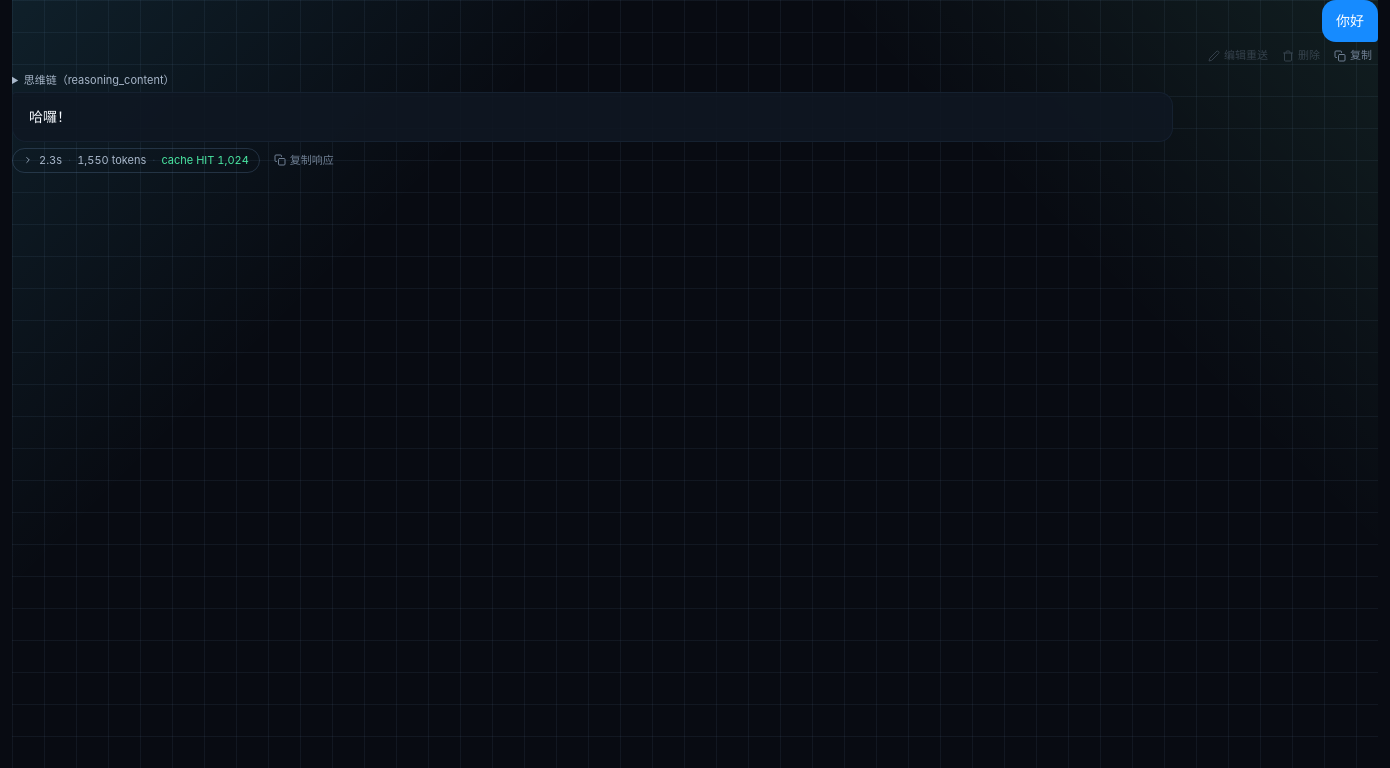
Test case: MessageBubble（assistant debug 收起/展开） › 点摘要列展开完整 debug 面板
Click the button with aria-label "debug": [136, 160] box [12,148,260,173]
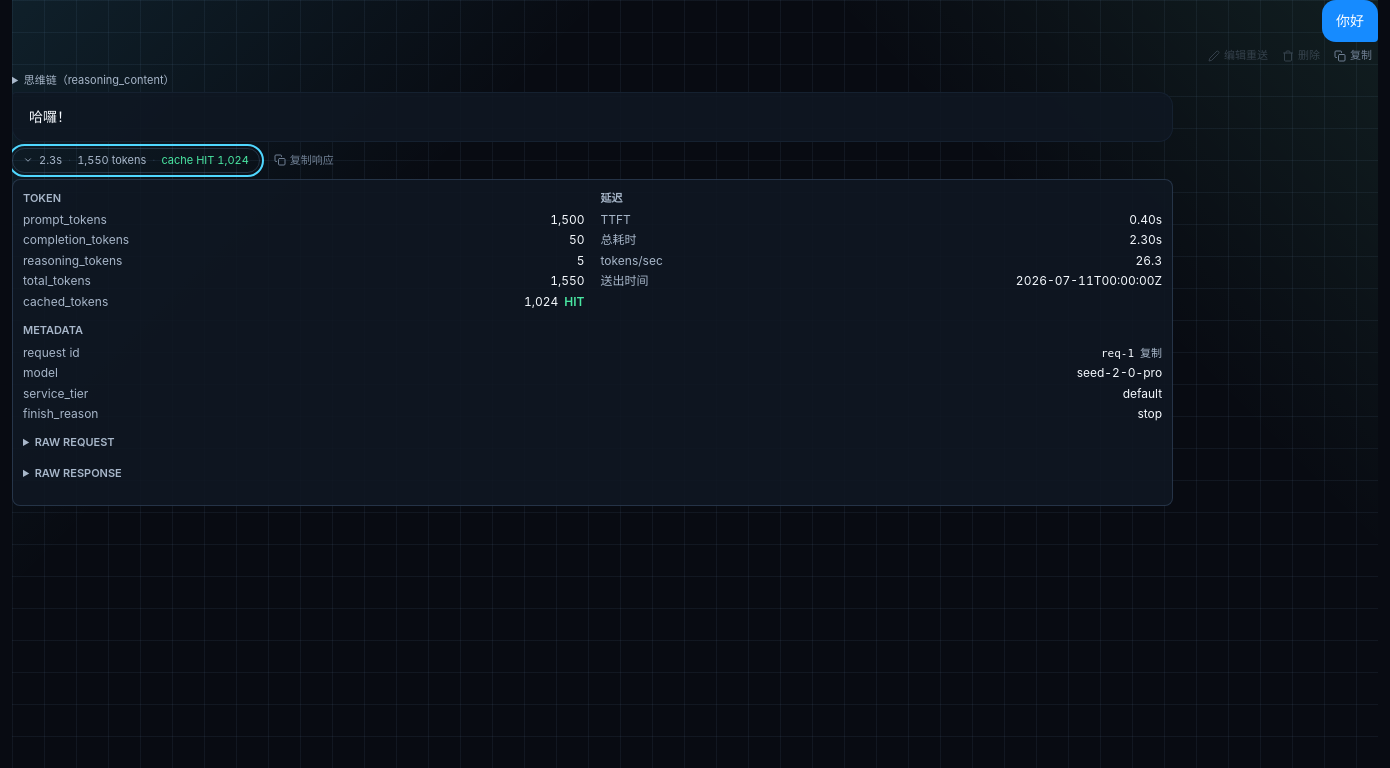
Now the heading "Raw request" is shown, box [35,435,114,449]
Now the heading "Raw response" is shown, box [35,466,122,480]
Now the text "req-1" is shown, box [1101,346,1134,360]
